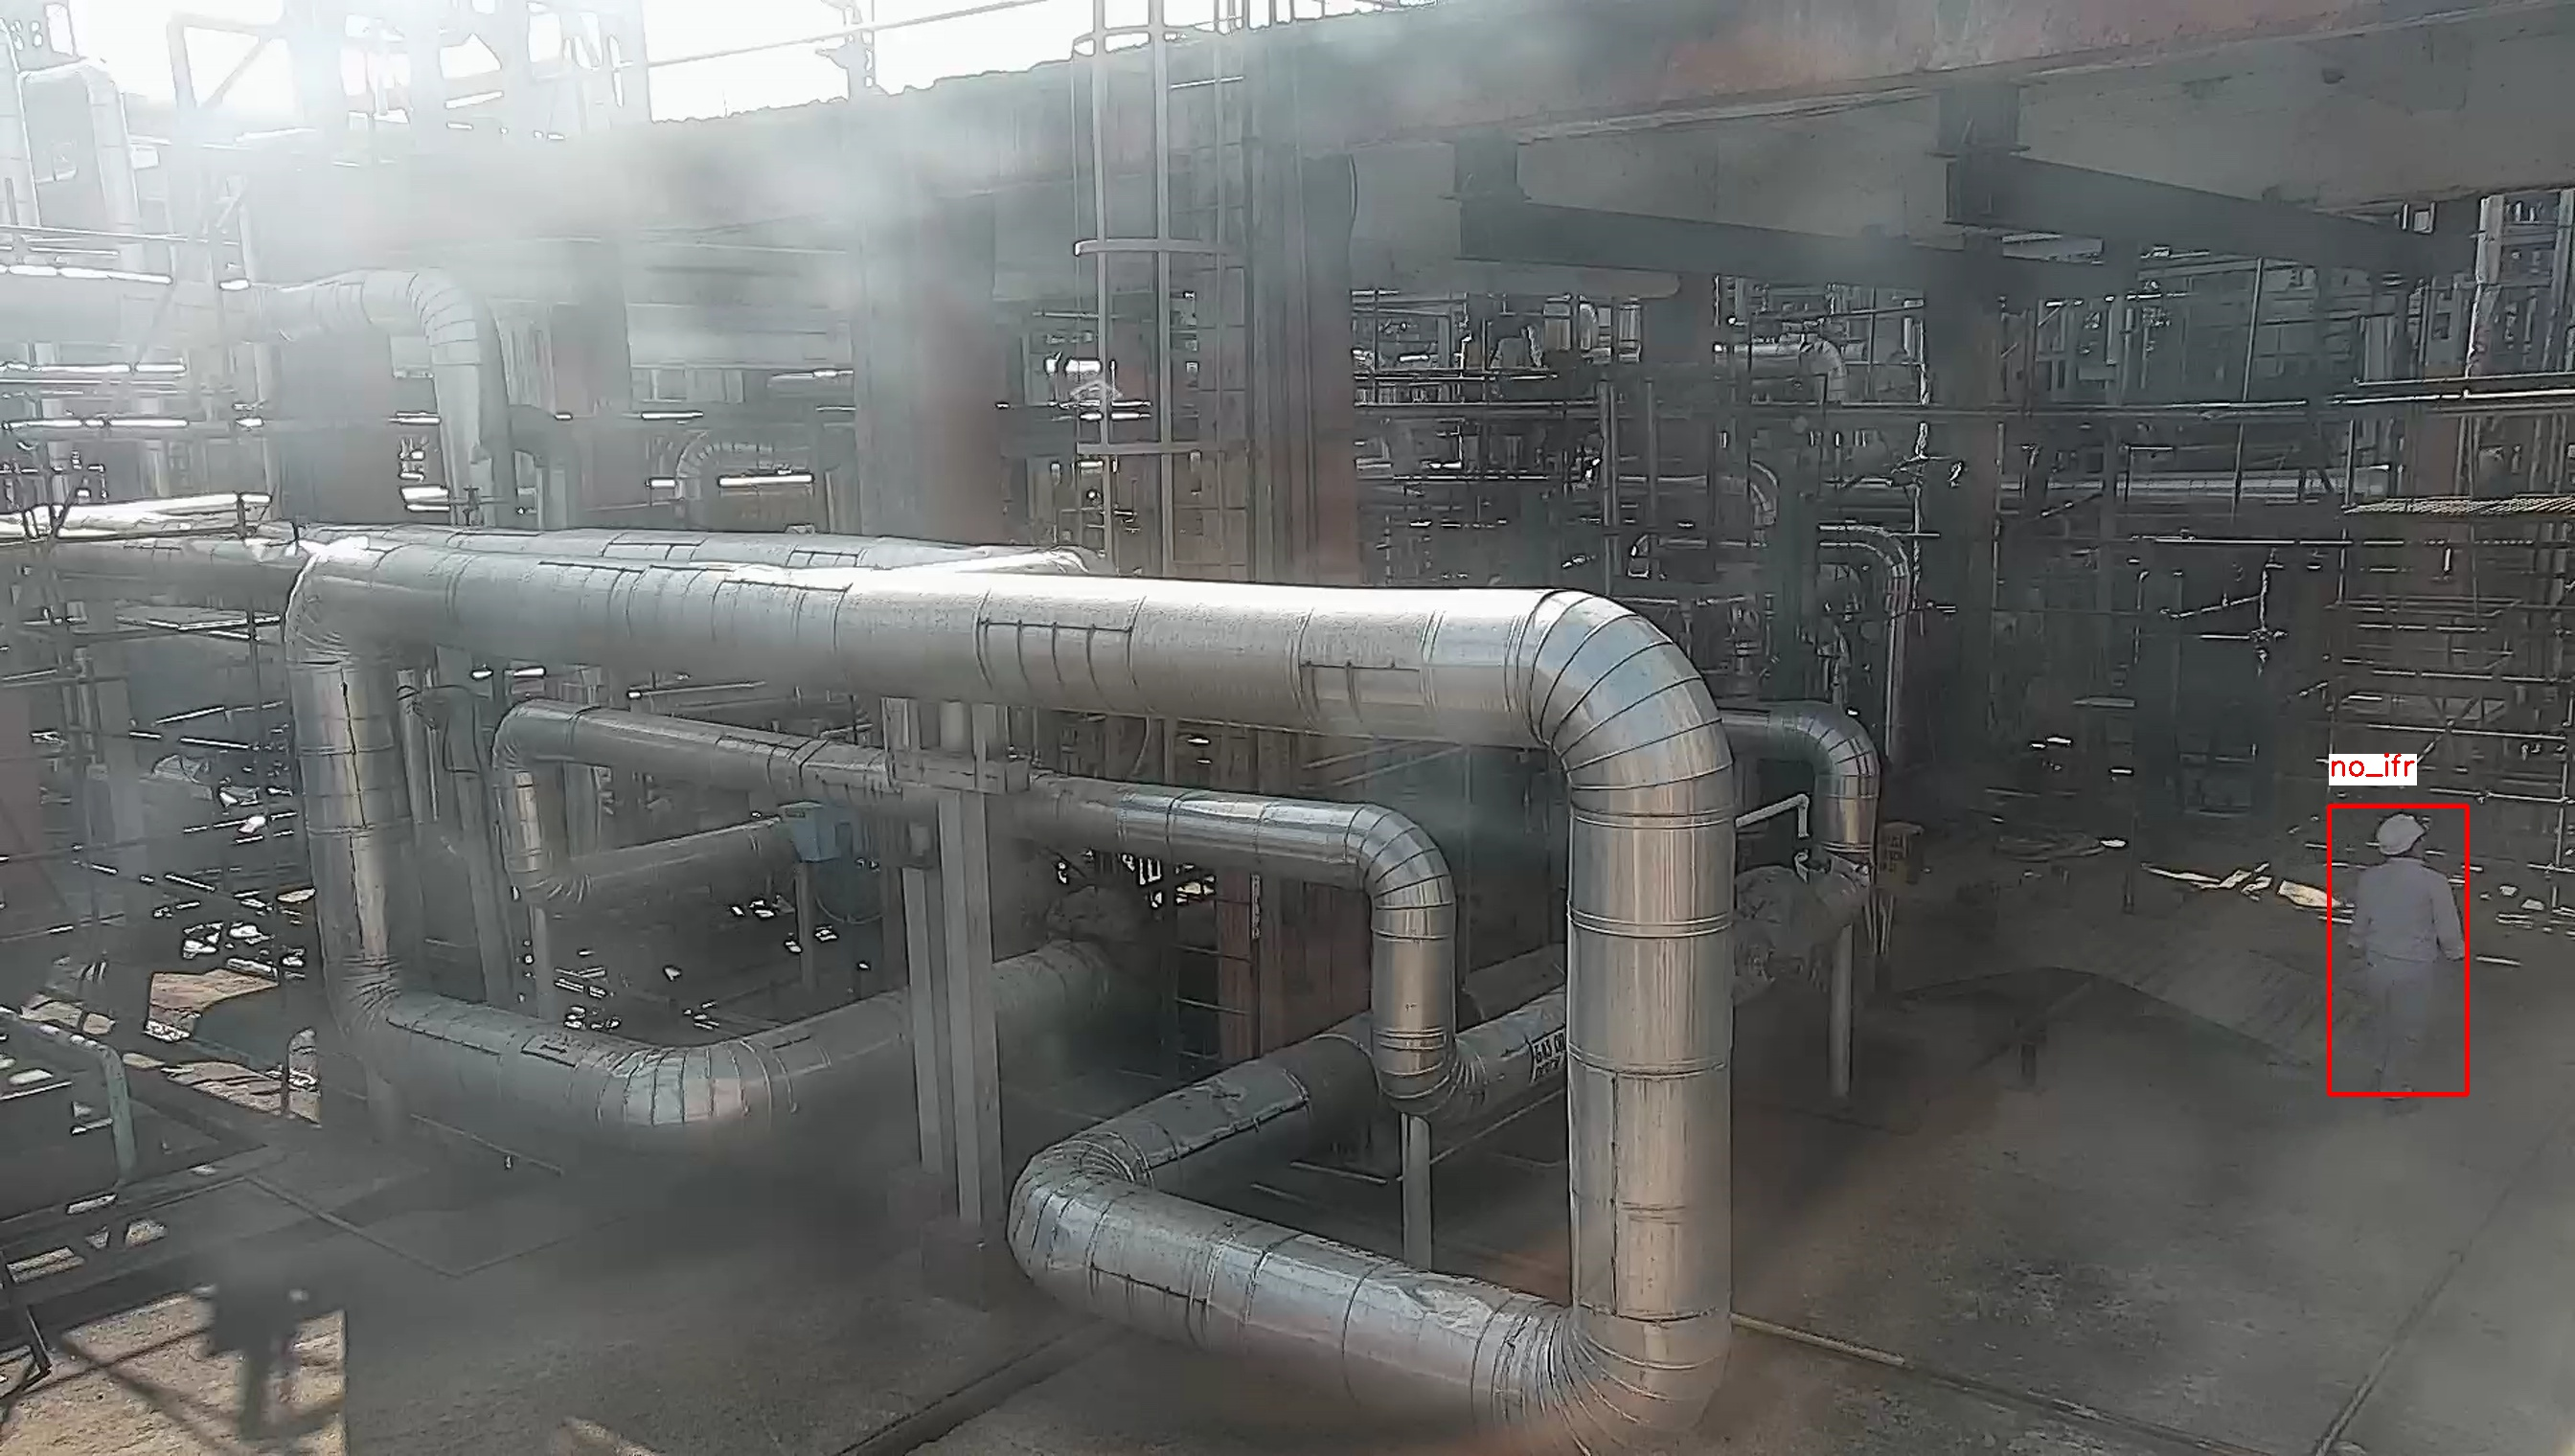Helmets: (2365, 810, 2434, 860)
